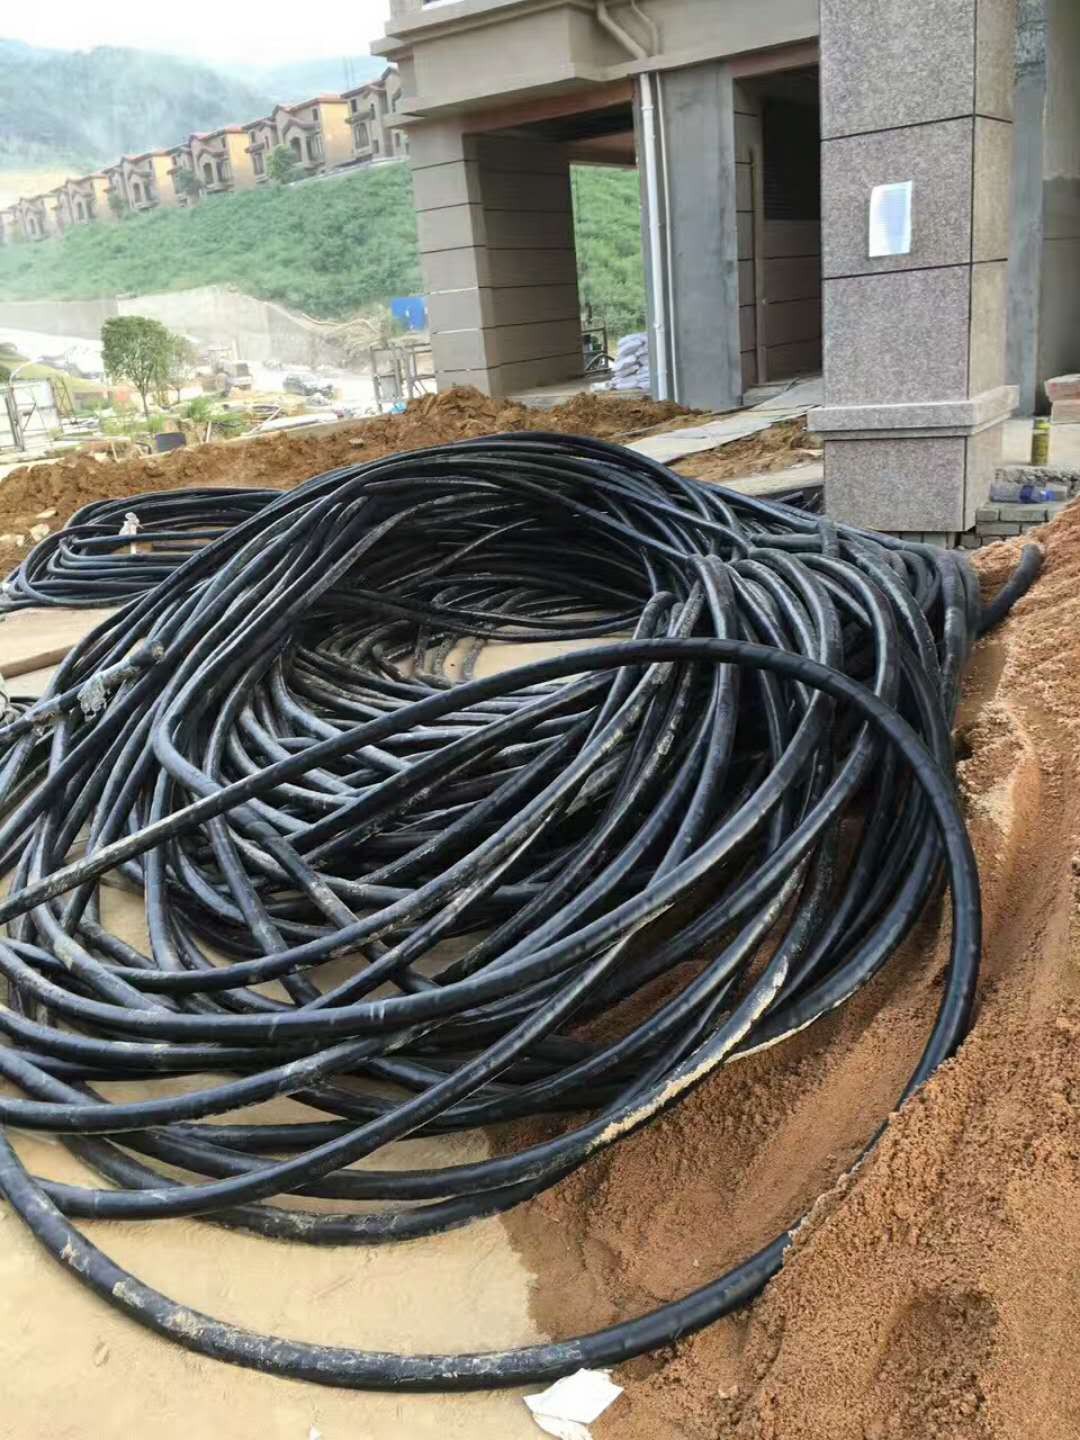more_tube: (33, 772, 838, 1395), (571, 630, 1027, 1235), (1, 664, 447, 1052)
